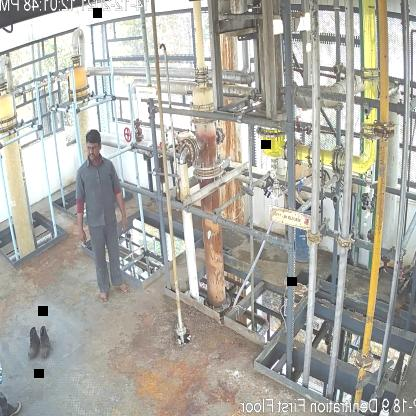no_shoes: (114, 282, 132, 293), (99, 291, 111, 305)
shoes: (36, 324, 52, 360), (26, 327, 40, 358)
